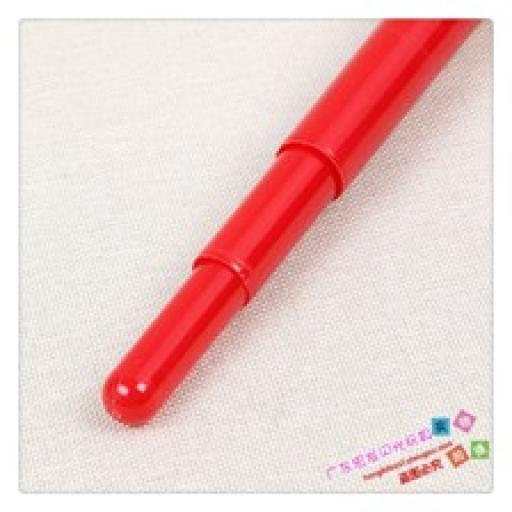lightsaber: (103, 18, 483, 428)
